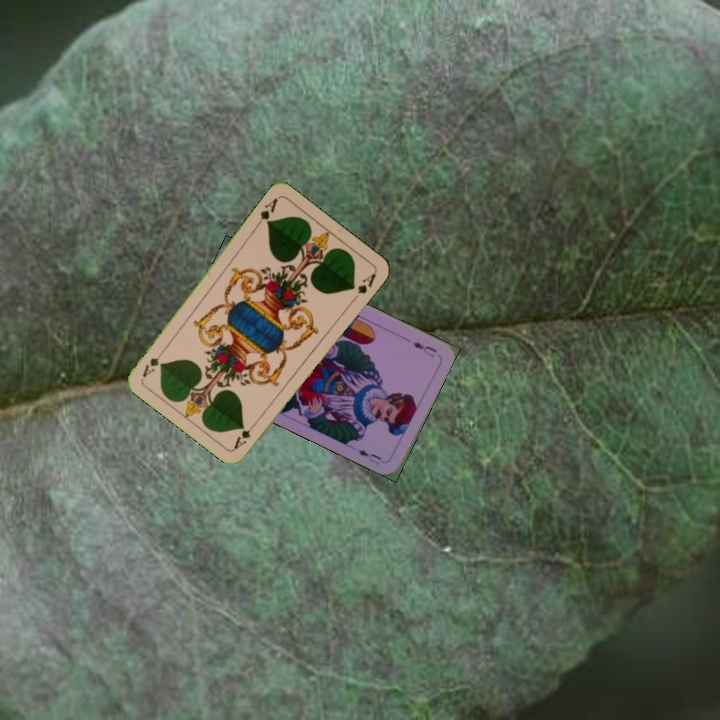EU: (409, 338, 439, 360)
GA: (230, 417, 260, 451), (252, 194, 280, 230)
